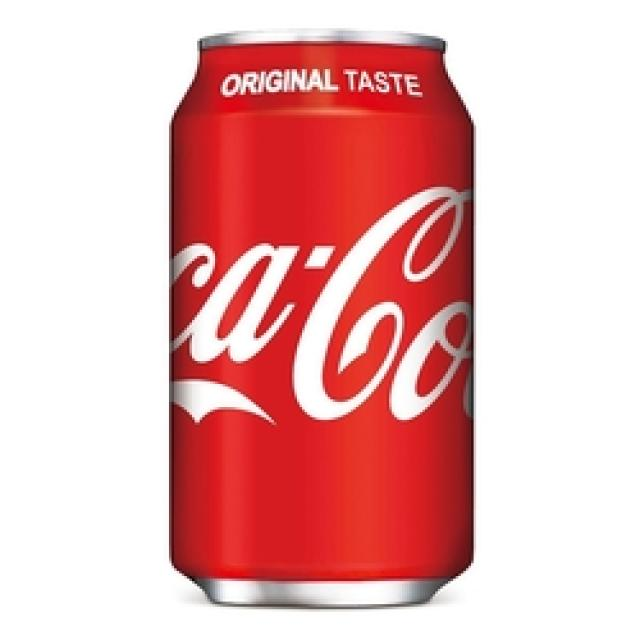aluminum_can: (172, 36, 474, 608)
